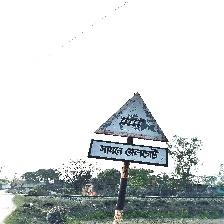Rail-crossing: (90, 93, 170, 167)
